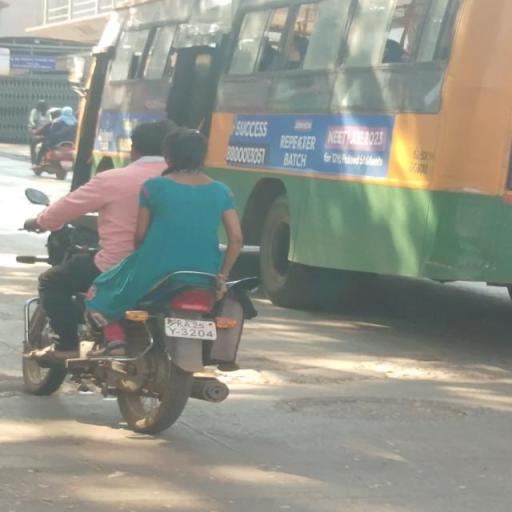bike: (16, 113, 257, 434)
numberplate: (168, 318, 216, 340)
withouthelmet: (163, 130, 205, 168), (134, 124, 164, 156)
